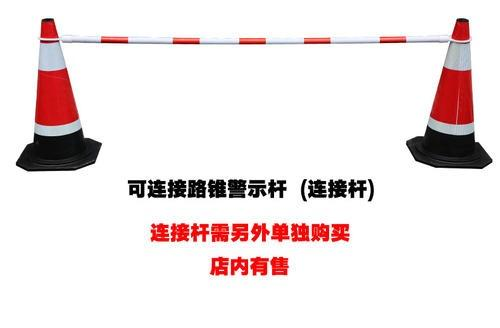cone_barrel: (22, 20, 91, 166), (415, 19, 483, 163)
